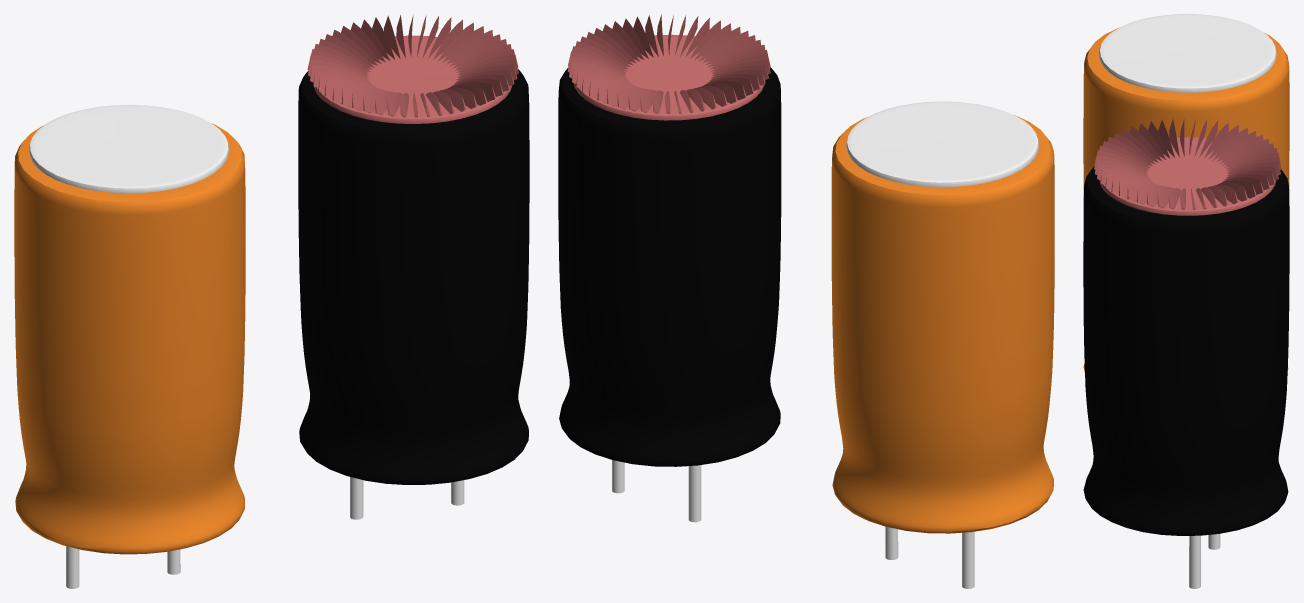
File: capasitor.glb
The picture shows the model from 3 angles, left to right: view 1: azimuth 30°, elevation 25°; view 2: azimuth 150°, elevation 25°; view 3: azimuth 270°, elevation 25°; orthographic projection. The views are drawn at different scales.
Parts seen in each view (by area): view 1: capasitor_1_1, capasitor_1; view 2: capasitor_1_1, capasitor_1; view 3: capasitor_1_1, capasitor_1.
Part boxes in pixels (box(x1,y1,x2,y2)): capasitor_1_1: box(298, 15, 529, 519); capasitor_1: box(14, 104, 245, 588); capasitor_1_1: box(558, 14, 781, 522); capasitor_1: box(831, 101, 1054, 588); capasitor_1_1: box(1083, 118, 1289, 588); capasitor_1: box(1083, 14, 1289, 372).
Bounding box in the file's own units: 2.4 × 2.18 × 0.9962.
